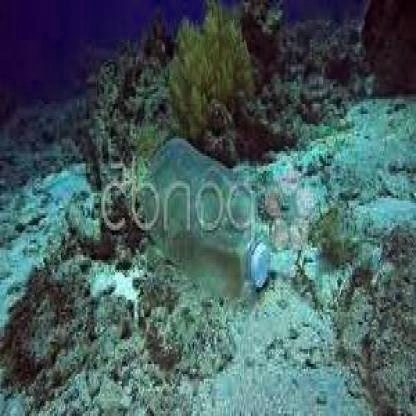pbottle: (130, 126, 274, 292)
